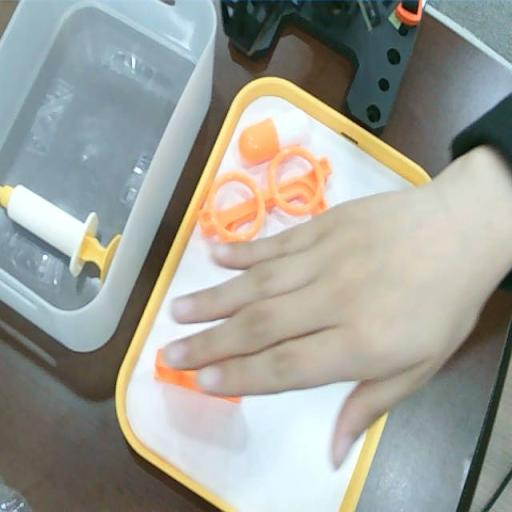hospital: (162, 165, 499, 470)
